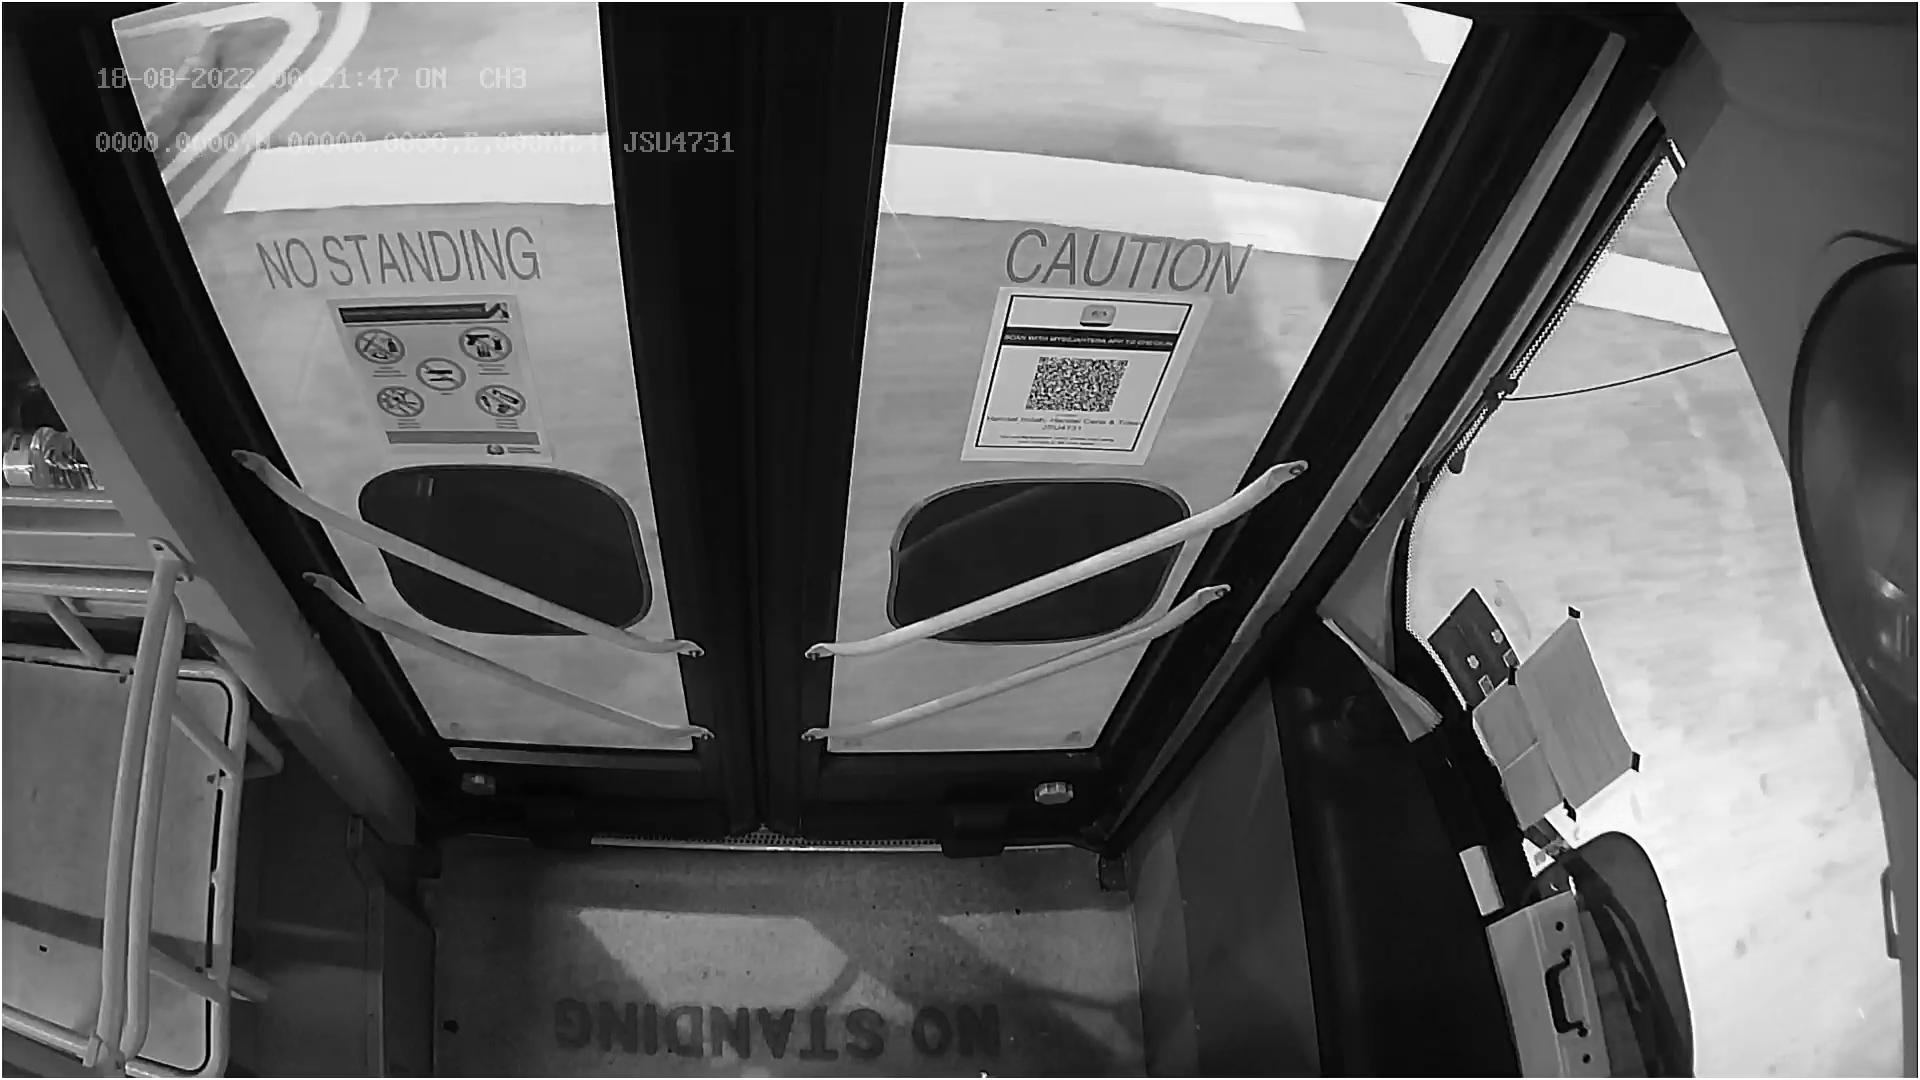close: (128, 0, 1451, 156)
